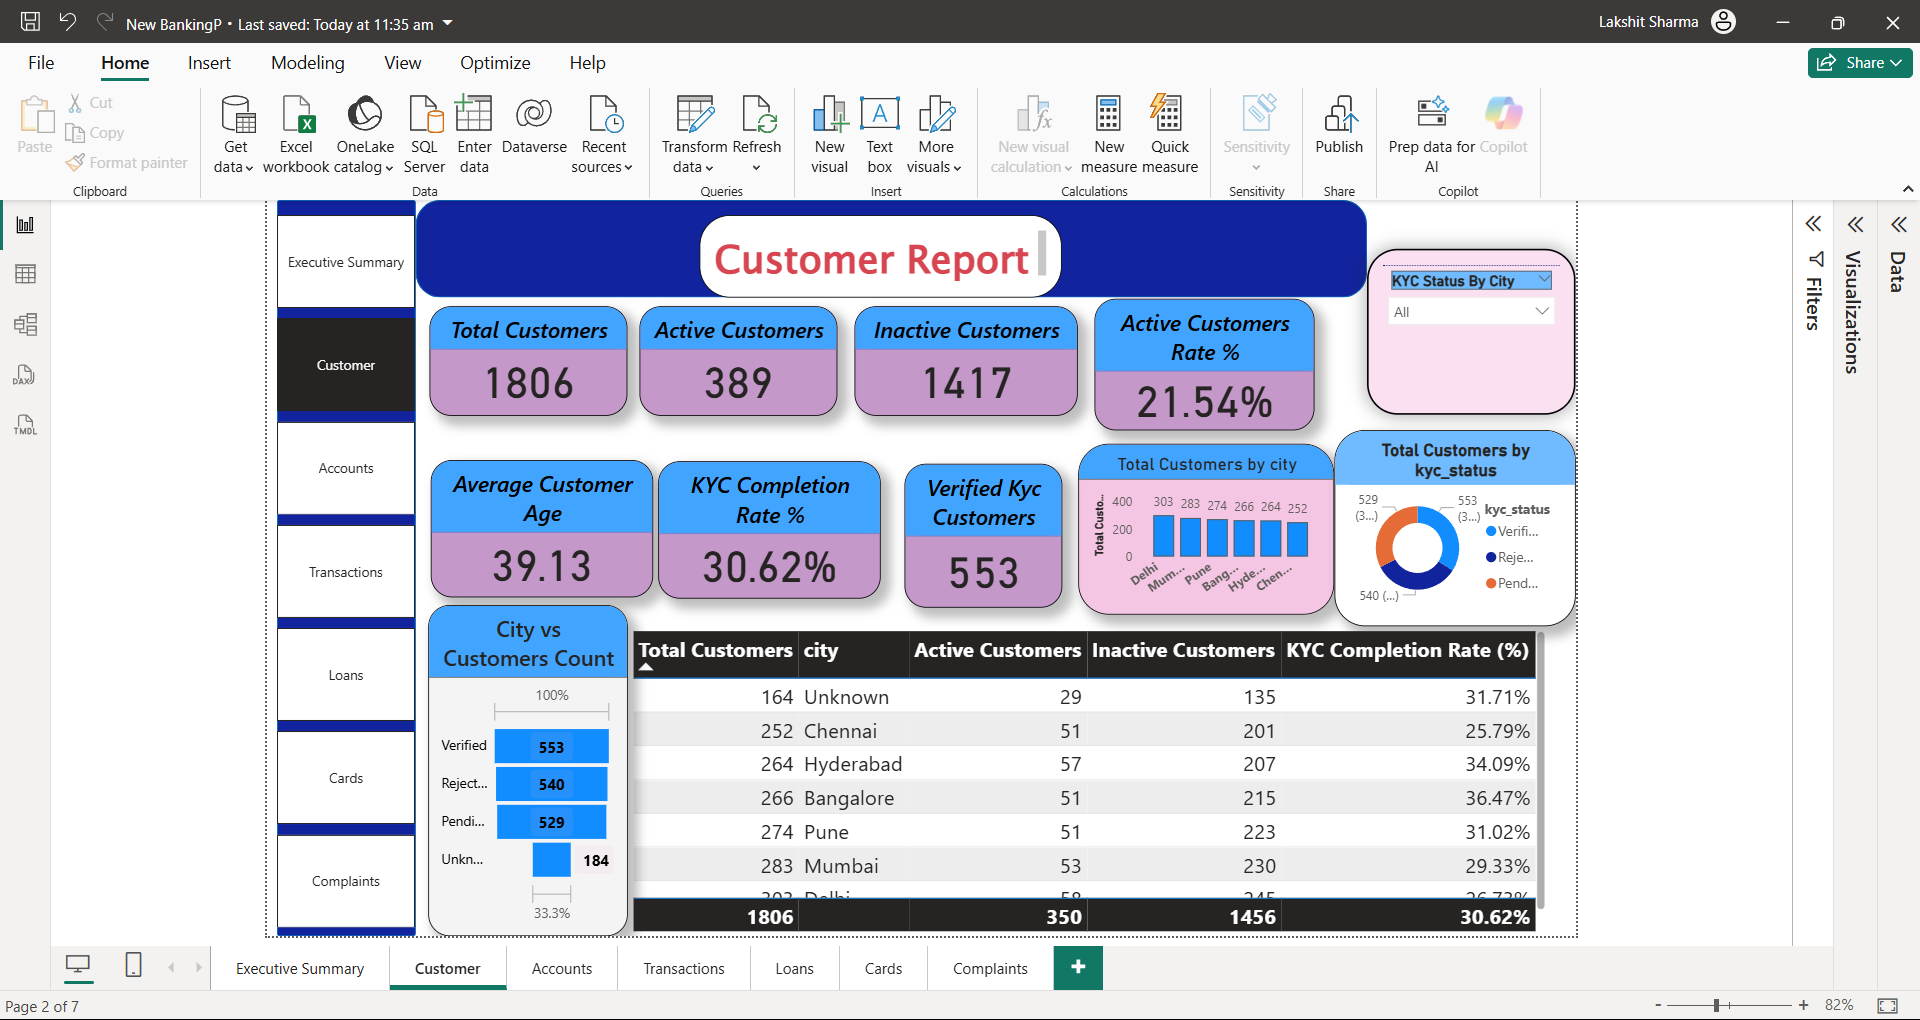

The dashboard page shown, as its layout file describes it:
{"tool":"powerbi","page":{"name":"Customer","canvas":[1280,720],"ordinal":1},"visuals":[{"type":"card","title":"Total Customers","fields":{"Values":["All Measures.Total Customers"]},"box":[159.2,104.3,193.5,107],"z":0},{"type":"card","title":"Average Customer Age","fields":{"Values":["All Measures.Average Customer Age"]},"box":[160.2,254.3,217.7,134.5],"z":1000},{"type":"card","title":"Inactive Customers","fields":{"Values":["All Measures.Inactive Customers"]},"box":[575,104.3,218.2,107],"z":2000},{"type":"card","title":"Active Customers","fields":{"Values":["All Measures.Active Customers"]},"box":[365,104.3,193.5,107],"z":3000},{"type":"card","title":"Verified Kyc Customers","fields":{"Values":["All Measures.Verified KYC Customers"]},"box":[623.6,258,154.1,140.6],"z":4000},{"type":"card","title":"Active Customers Rate %","fields":{"Values":["All Measures.Active Customer Rate %"]},"box":[809.6,96.1,215.4,129],"z":5000},{"type":"card","title":"KYC Completion Rate %","fields":{"Values":["All Measures.KYC Completion Rate (%)"]},"box":[382.7,255.6,217.7,134.5],"z":6000},{"type":"tableEx","fields":{"Values":["All Measures.Total Customers","customers.city","All Measures.Active Customers","All Measures.Inactive Customers","All Measures.KYC Completion Rate (%)"]},"box":[352.2,417,903.7,303.3],"z":7000},{"type":"columnChart","fields":{"Category":["customers.city"],"Y":["All Measures.Total Customers"]},"box":[793.6,238.5,250.7,167.5],"z":8000},{"type":"donutChart","fields":{"Y":["All Measures.Total Customers"],"Category":["customers.kyc_status"]},"box":[1044.3,225,236,192],"z":9000},{"type":"shape","box":[145.5,0,930.6,95.4],"z":10000},{"type":"textbox","box":[423.1,14.7,354.6,80.7],"z":11000},{"type":"shape","box":[9.8,0,135.7,720.2],"z":12000},{"type":"slicer","fields":{"Values":["accounts.branch","accounts.account_type"]},"box":[1076.1,47.7,204.2,162.6],"z":13000},{"type":"funnel","title":"City vs Customers Count","fields":{"Category":["customers.kyc_status"],"Y":["All Measures.Total Customers"]},"box":[157.8,396.6,194.9,323.8],"z":14000},{"type":"pageNavigator","box":[9.8,14.7,135.7,697],"z":15000}]}

Visuals, with their boxes on the page's 1280x720 design canvas (x1, y1, x2, y2). These are canvas units, not pixel positions in the 1920x1020 screenshot, which may show the page scaled, cropped or inside an application window:
"Total Customers" card: box(159, 104, 353, 211)
"Average Customer Age" card: box(160, 254, 378, 389)
"Inactive Customers" card: box(575, 104, 793, 211)
"Active Customers" card: box(365, 104, 558, 211)
"Verified Kyc Customers" card: box(624, 258, 778, 399)
"Active Customers Rate %" card: box(810, 96, 1025, 225)
"KYC Completion Rate %" card: box(383, 256, 600, 390)
tableEx - All Measures.Total Customers x customers.city: box(352, 417, 1256, 720)
columnChart - customers.city x All Measures.Total Customers: box(794, 238, 1044, 406)
donutChart - All Measures.Total Customers x customers.kyc_status: box(1044, 225, 1280, 417)
shape: box(146, 0, 1076, 95)
textbox: box(423, 15, 778, 95)
shape: box(10, 0, 146, 720)
slicer - accounts.branch x accounts.account_type: box(1076, 48, 1280, 210)
"City vs Customers Count" funnel: box(158, 397, 353, 720)
pageNavigator: box(10, 15, 146, 712)
